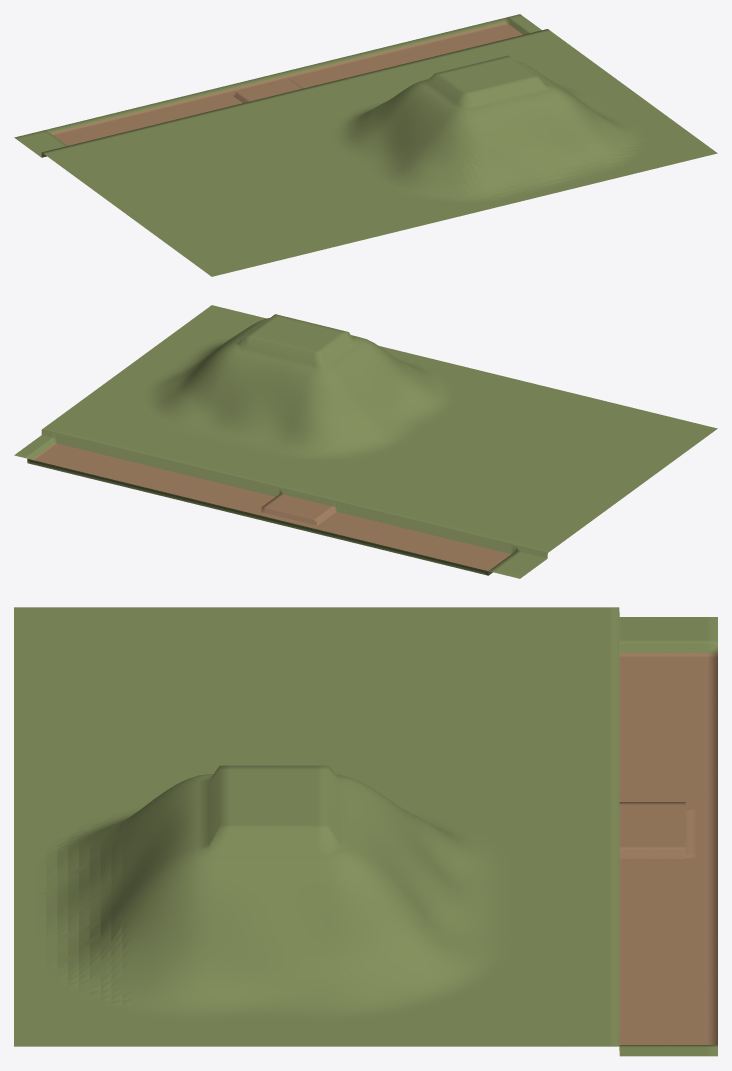
The model's file is HK_Terrain_Castle.glb.
The picture shows the model from 3 angles, top to bottom: view 1: azimuth 30°, elevation 25°; view 2: azimuth 150°, elevation 25°; view 3: azimuth 270°, elevation 25°; orthographic projection. The views are drawn at different scales.
Visible parts, largest first — view 1: HK_Terrain_Castle; view 2: HK_Terrain_Castle; view 3: HK_Terrain_Castle.
Boxes of the visible parts, box(x1,y1,x2,y2) form: HK_Terrain_Castle: box(14, 14, 717, 276); HK_Terrain_Castle: box(14, 305, 717, 578); HK_Terrain_Castle: box(14, 607, 717, 1056).
Size of the model in its own units: 384 by 52.96 by 260.
